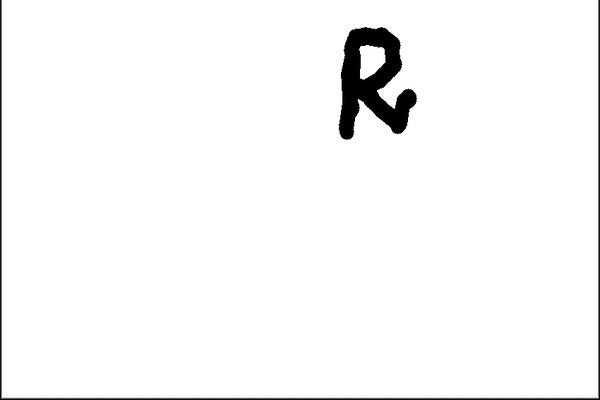R: (331, 16, 425, 148)
